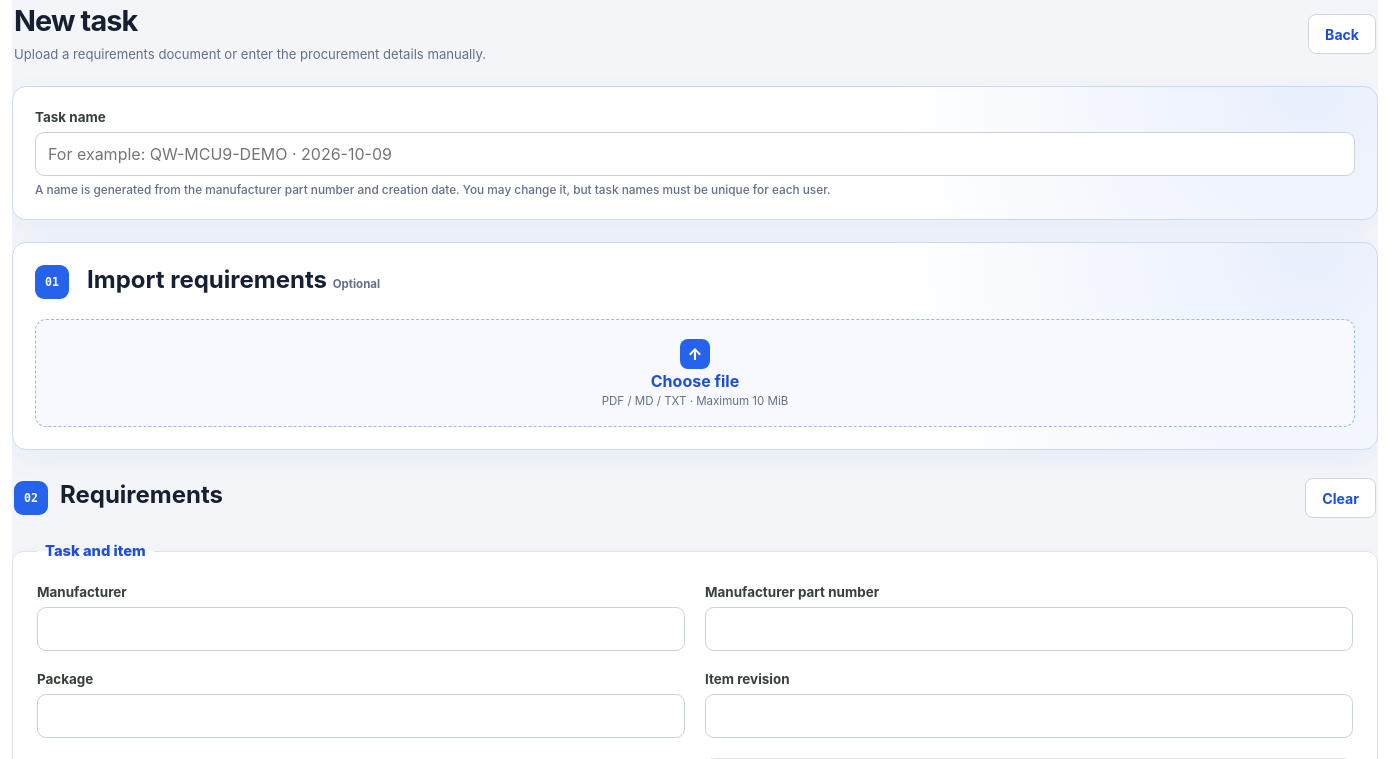
Test: frontend and backend version consistency › new task form starts empty and clear form removes every selected default
Expected: the heading "New task" is shown, [14,3,137,38]
Expected: the field labelled "Task name" is empty, [35,132,1355,176]
Type "Example Maker" into the field labelled "Manufacturer" at coordinates (361, 630), box [37,608,685,652]
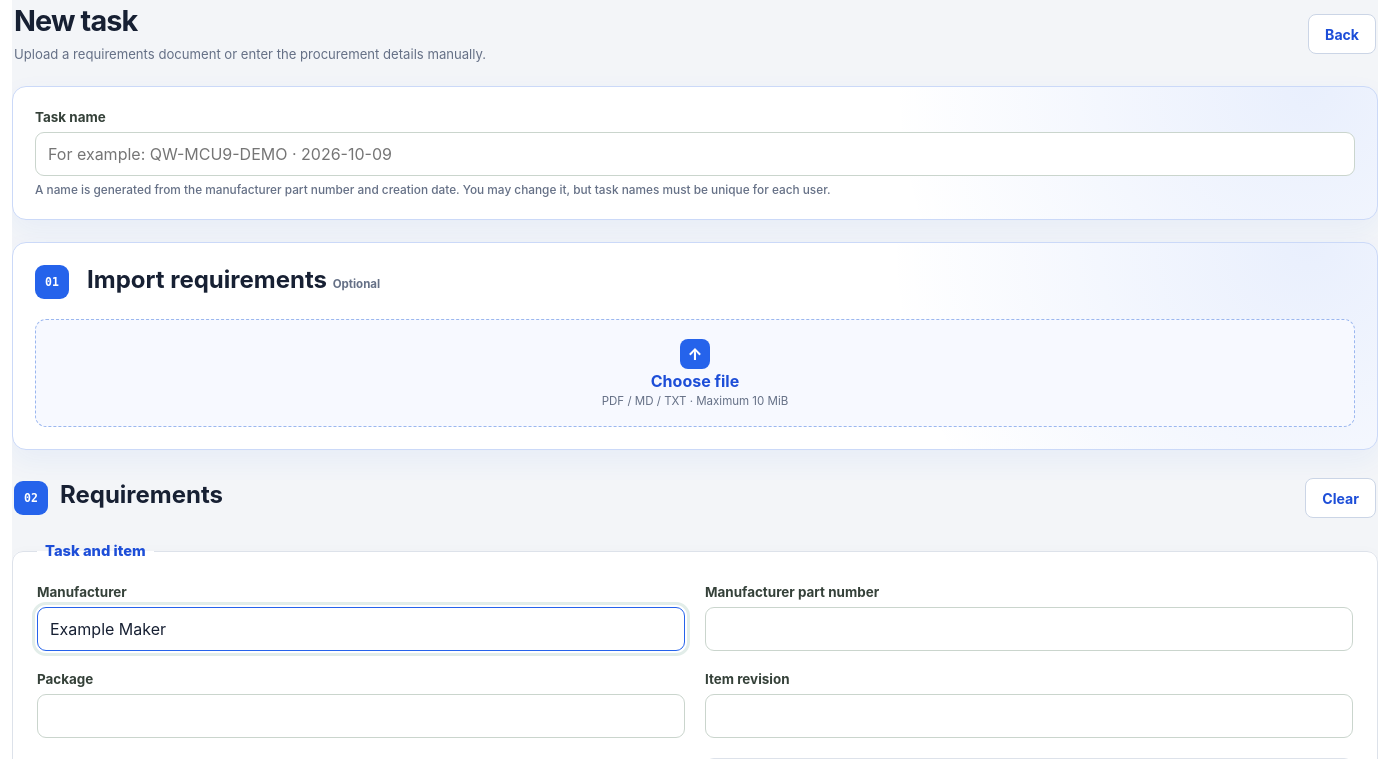
Type "EXAMPLE-PART" into the field labelled "Manufacturer part number" at coordinates (1029, 630), box [705,608,1353,652]
(page scrolled)
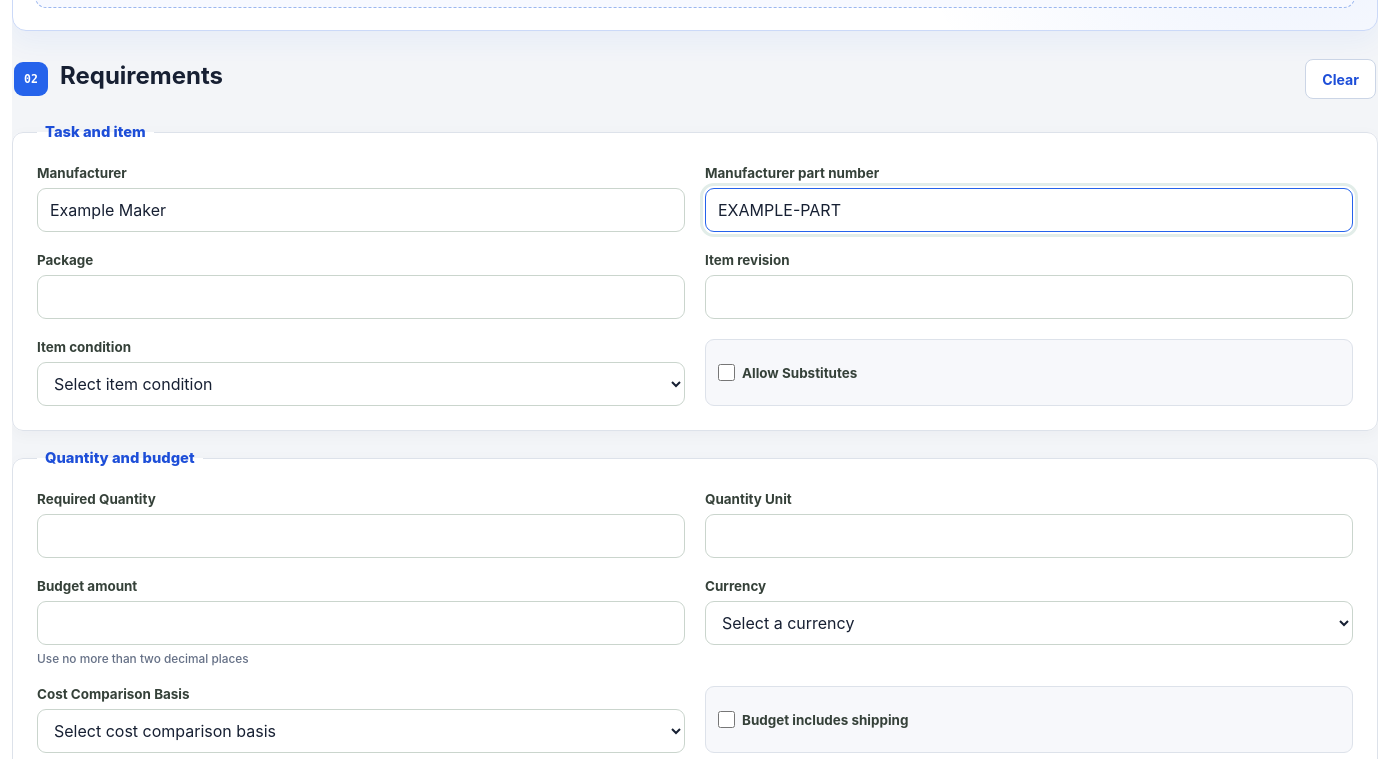
Select "New" in the dropdown labelled "Item condition" at coordinates (361, 384), box [37,362,685,406]
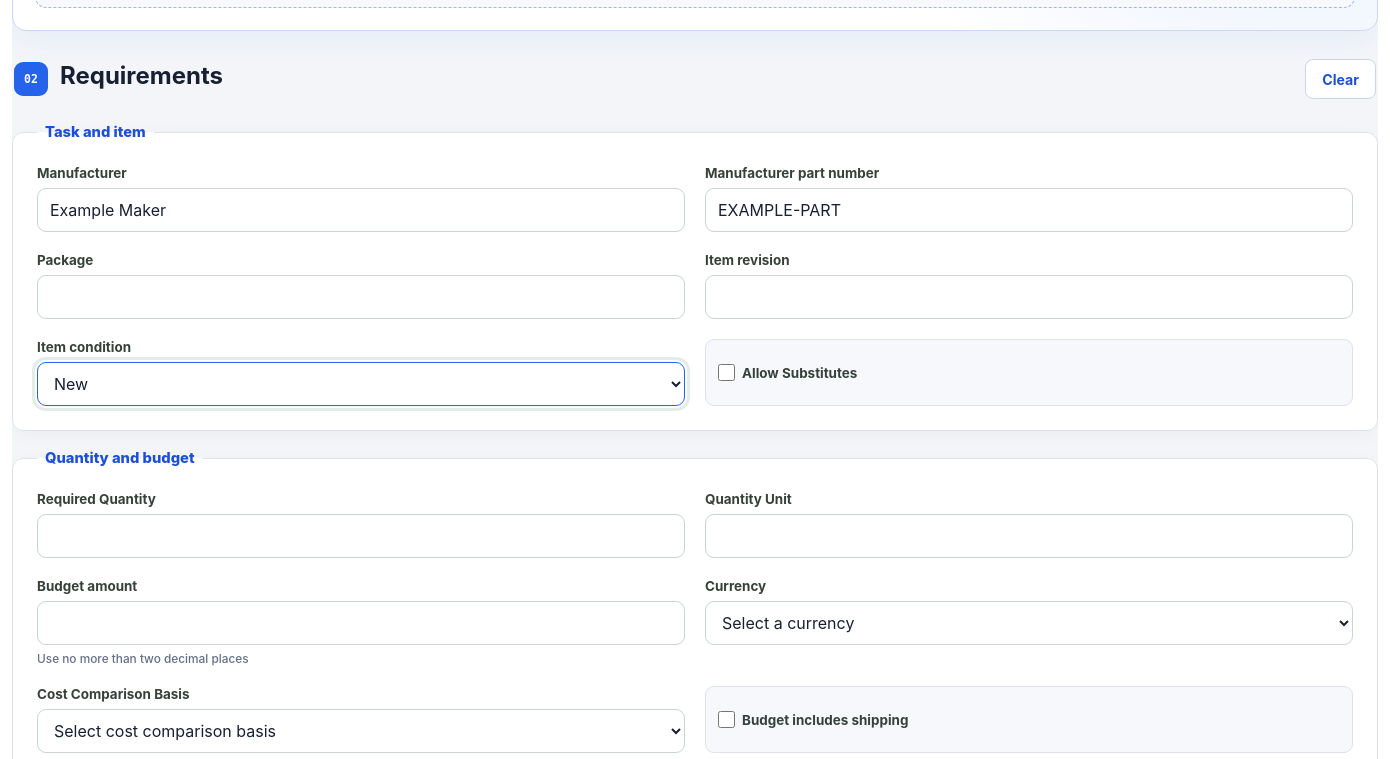
Select "SGD" in the dropdown labelled "Currency" at coordinates (1029, 624), box [705,602,1353,646]
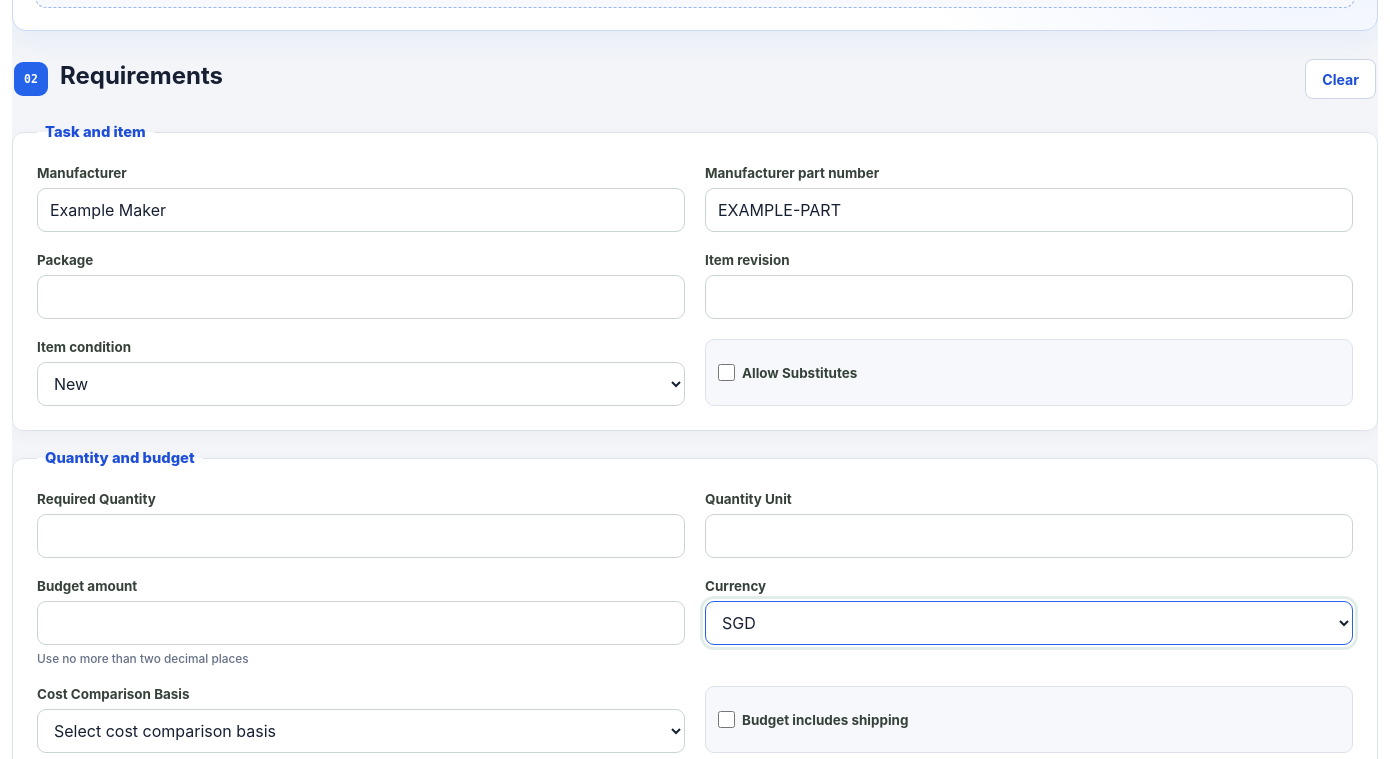
Click the checkbox labelled "Budget includes shipping" at coordinates (726, 720), box [718,712,735,728]
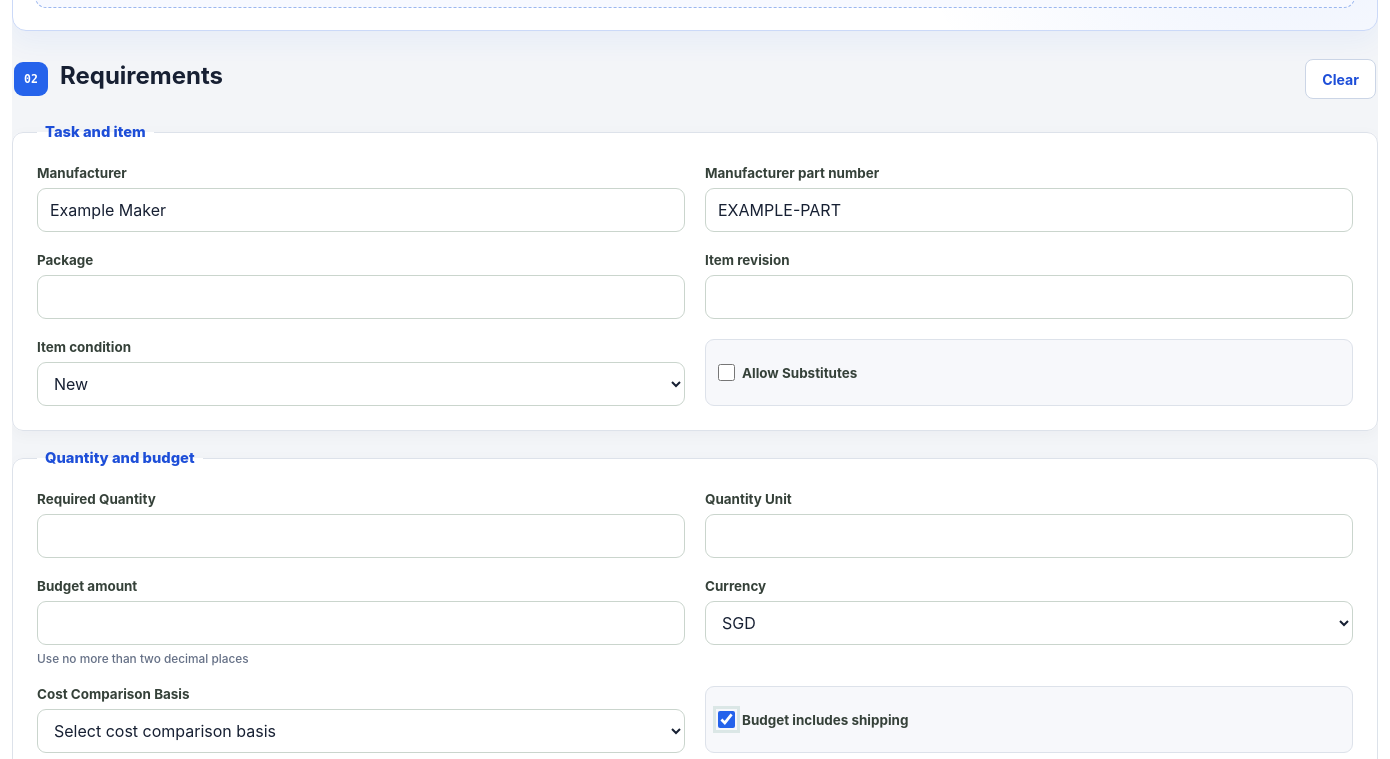
Click the button "Clear" at coordinates (1341, 80), box [1305,60,1376,100]
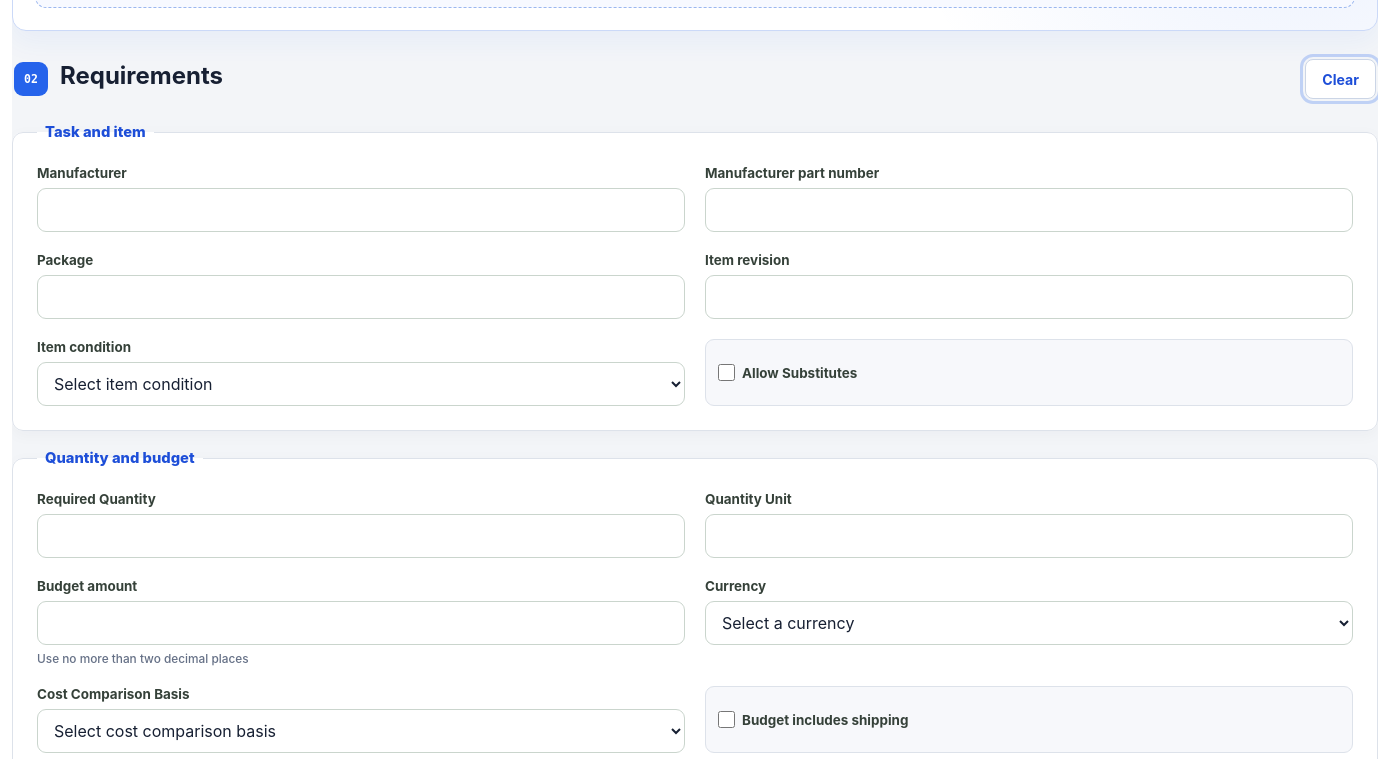
Now the checkbox labelled "Budget includes shipping" is not checked, box [718,712,735,728]
Now the field labelled "Manufacturer" is empty, box [37,188,685,232]
